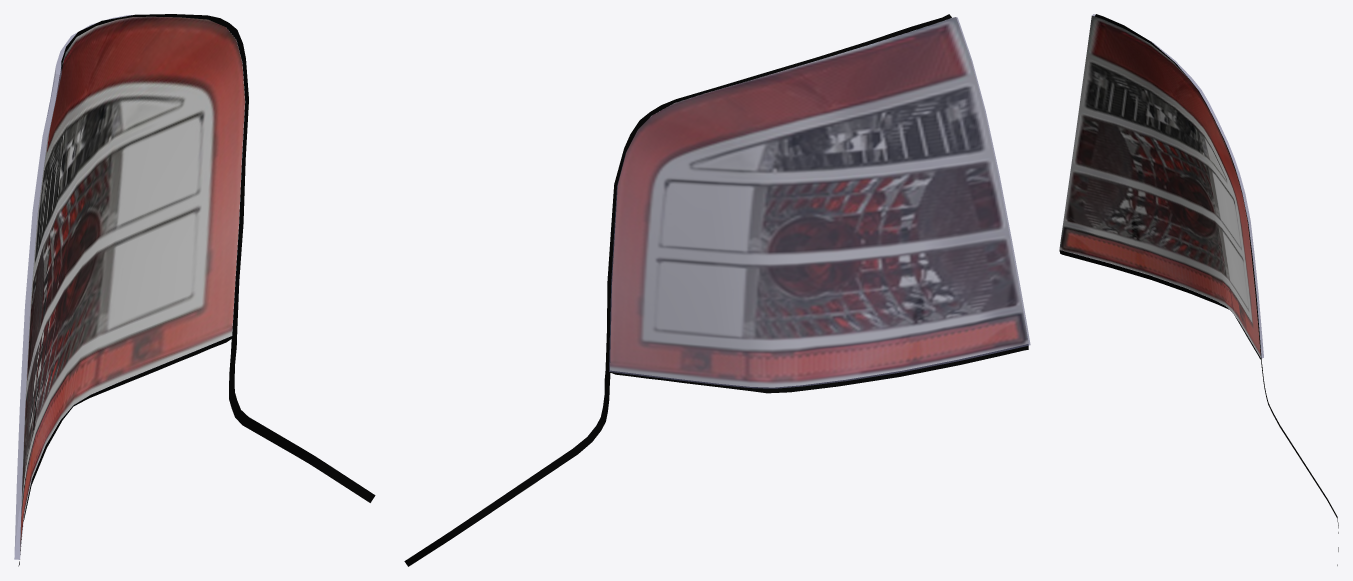
3 renders of one model, left to right at view 1: azimuth 30°, elevation 25°; view 2: azimuth 150°, elevation 25°; view 3: azimuth 270°, elevation 25°, orthographic. The views are drawn at different scales.
Visible parts, largest first — view 1: P740_541C_L_1_N_P740_541C_L, P740_541C_L_P740_541C_L_3_D, P740_541C_L_P740_541C_L_2_DTaSI; view 2: P740_541C_L_P740_541C_L_2_DTaSI, P740_541C_L_1_N_P740_541C_L, P740_541C_L_P740_541C_L_3_D; view 3: P740_541C_L_1_N_P740_541C_L, P740_541C_L_P740_541C_L_3_D, P740_541C_L_P740_541C_L_2_DTaSI.
Part boxes in pixels (box(x1,y1,x2,y2)): P740_541C_L_1_N_P740_541C_L: box(20, 16, 244, 554); P740_541C_L_P740_541C_L_3_D: box(18, 14, 375, 566); P740_541C_L_P740_541C_L_2_DTaSI: box(14, 15, 132, 559); P740_541C_L_P740_541C_L_2_DTaSI: box(609, 17, 1030, 388); P740_541C_L_1_N_P740_541C_L: box(610, 17, 1028, 387); P740_541C_L_P740_541C_L_3_D: box(404, 14, 1028, 566); P740_541C_L_1_N_P740_541C_L: box(1059, 16, 1260, 357); P740_541C_L_P740_541C_L_3_D: box(1059, 14, 1338, 565); P740_541C_L_P740_541C_L_2_DTaSI: box(1092, 14, 1263, 358).
Bounding box in the file's own units: 45.37 × 51.64 × 31.97.
